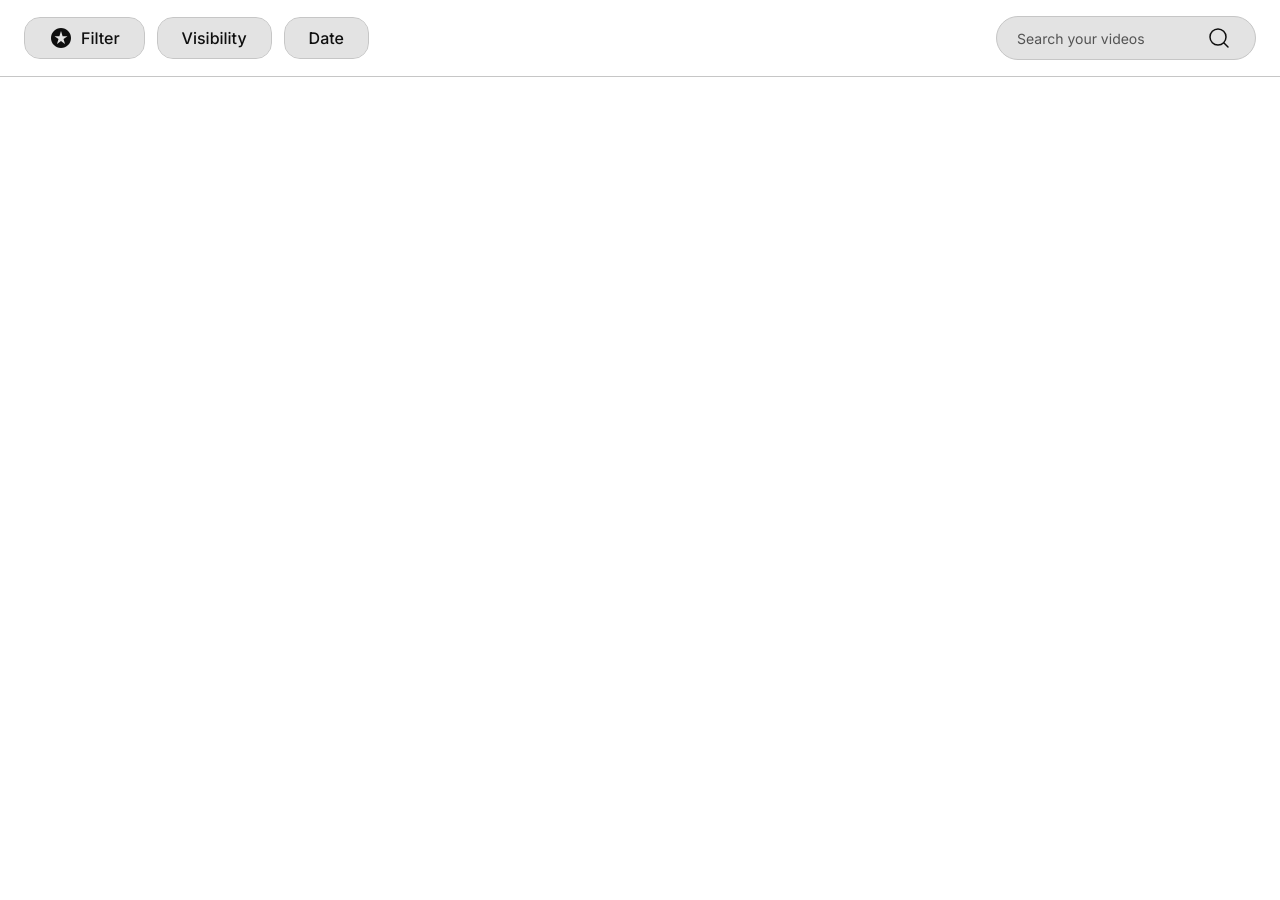
Test: VideoFilters — date range › rejects a start date after the end date
Click the button "Date": (326, 38) [284, 17, 369, 59]
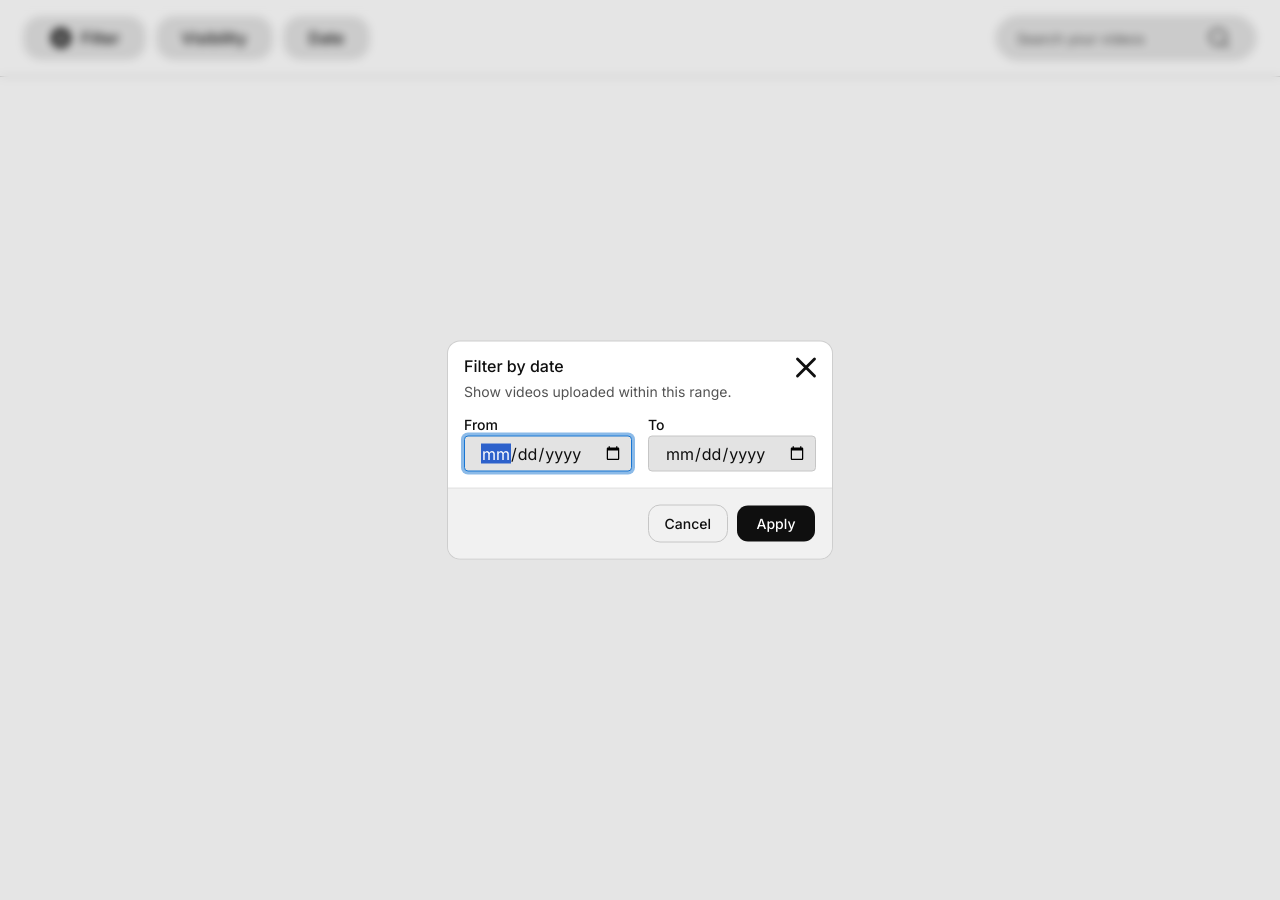
In the date field labelled "From": (548, 454) [464, 436, 632, 472], type "2026-10-20"
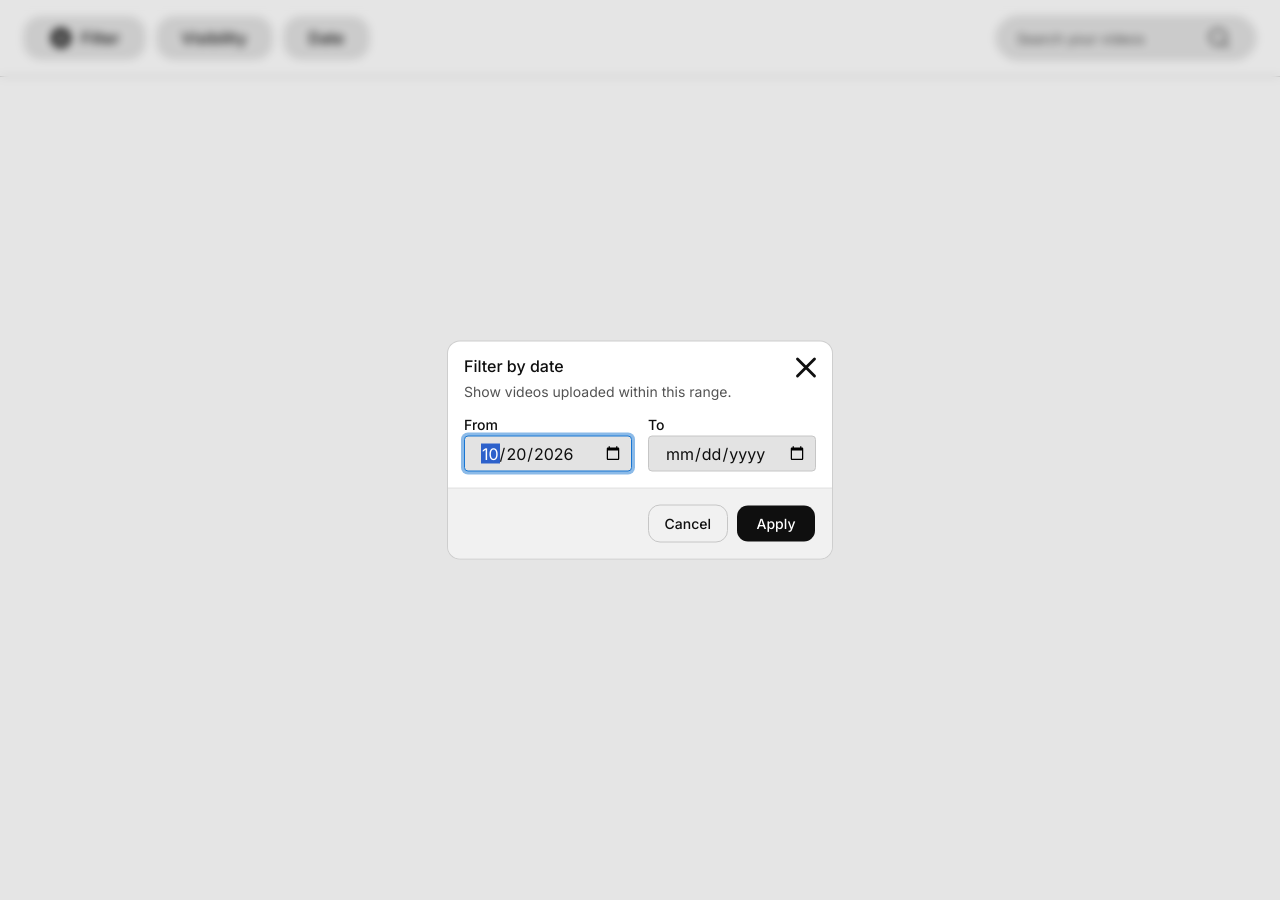
In the date field labelled "To": (732, 454) [648, 436, 816, 472], type "2026-10-01"
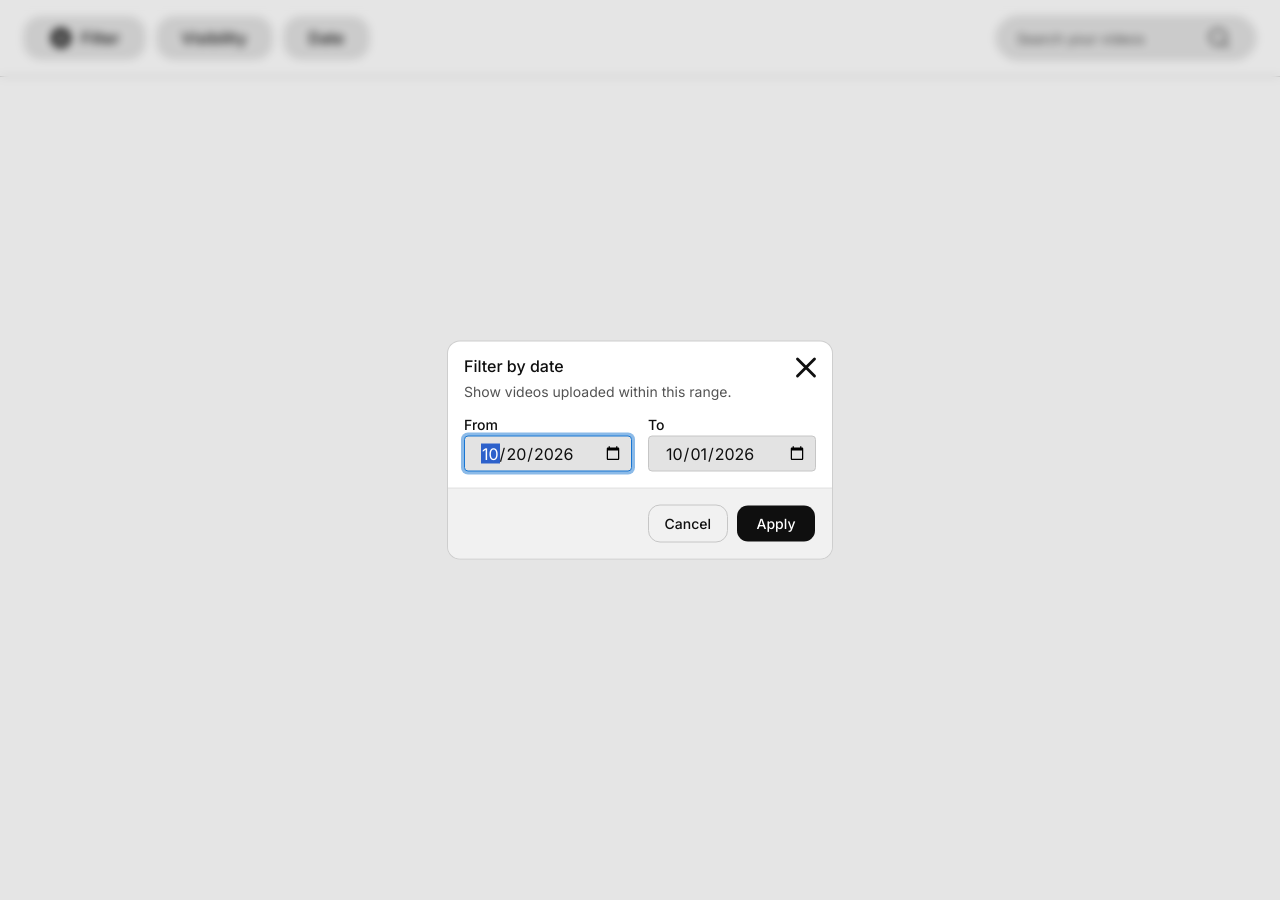
Click the button "Apply": (776, 524) [736, 504, 816, 542]
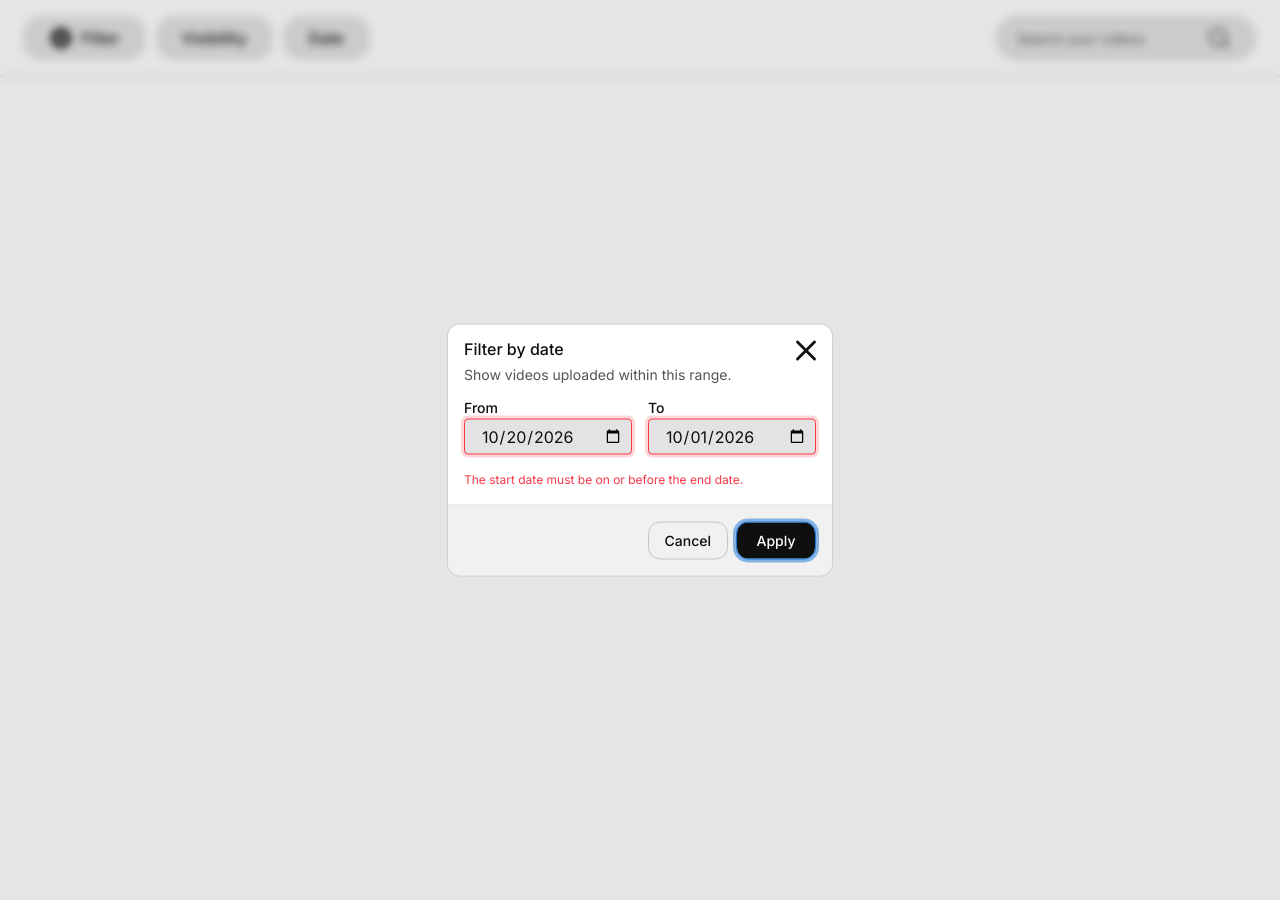
Result: the dialog is shown at [448, 324, 832, 576]
Result: the message reads "The start date must be on or before the end date." at [464, 472, 743, 486]
